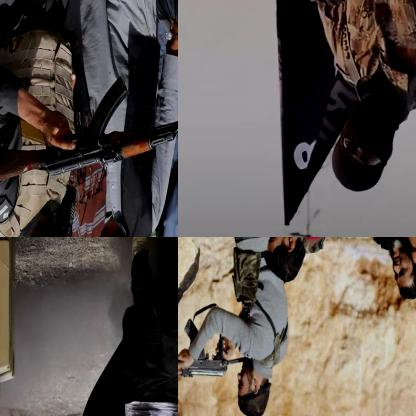rifle: (0, 74, 177, 192), (178, 318, 253, 379)
